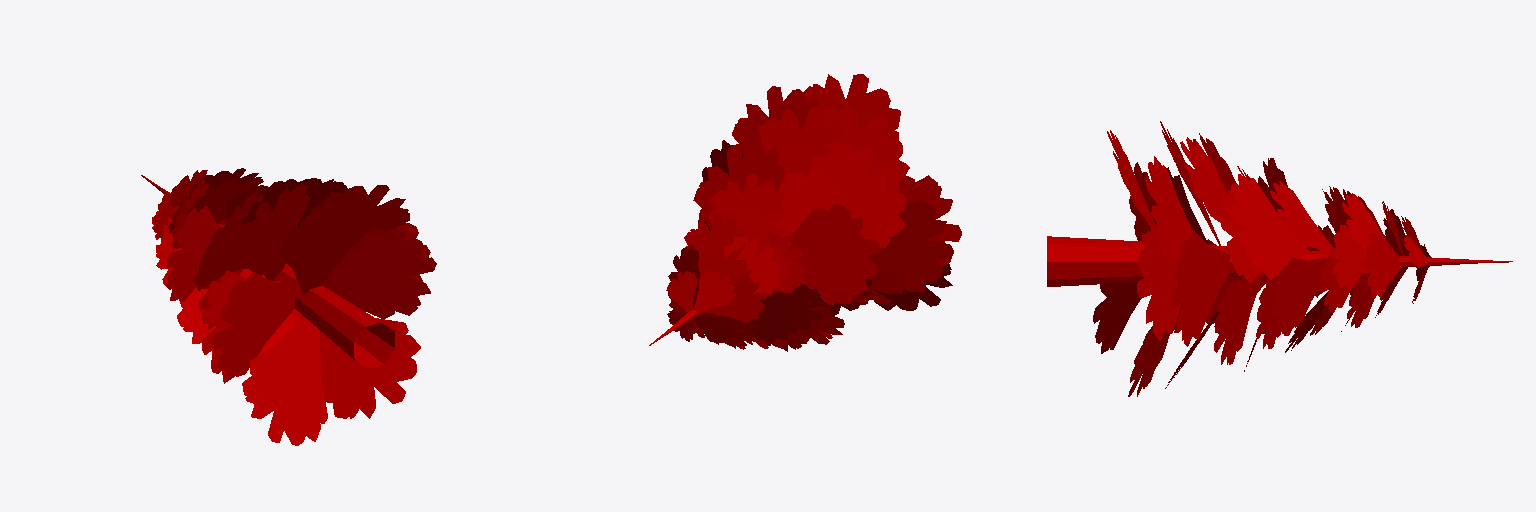
File: tree.obj
3 views of the same model, side by side, from view 1: azimuth 30°, elevation 25°; view 2: azimuth 150°, elevation 25°; view 3: azimuth 270°, elevation 25° (orthographic).
Size of the model in its own units: 18.21 by 17.49 by 30.57.